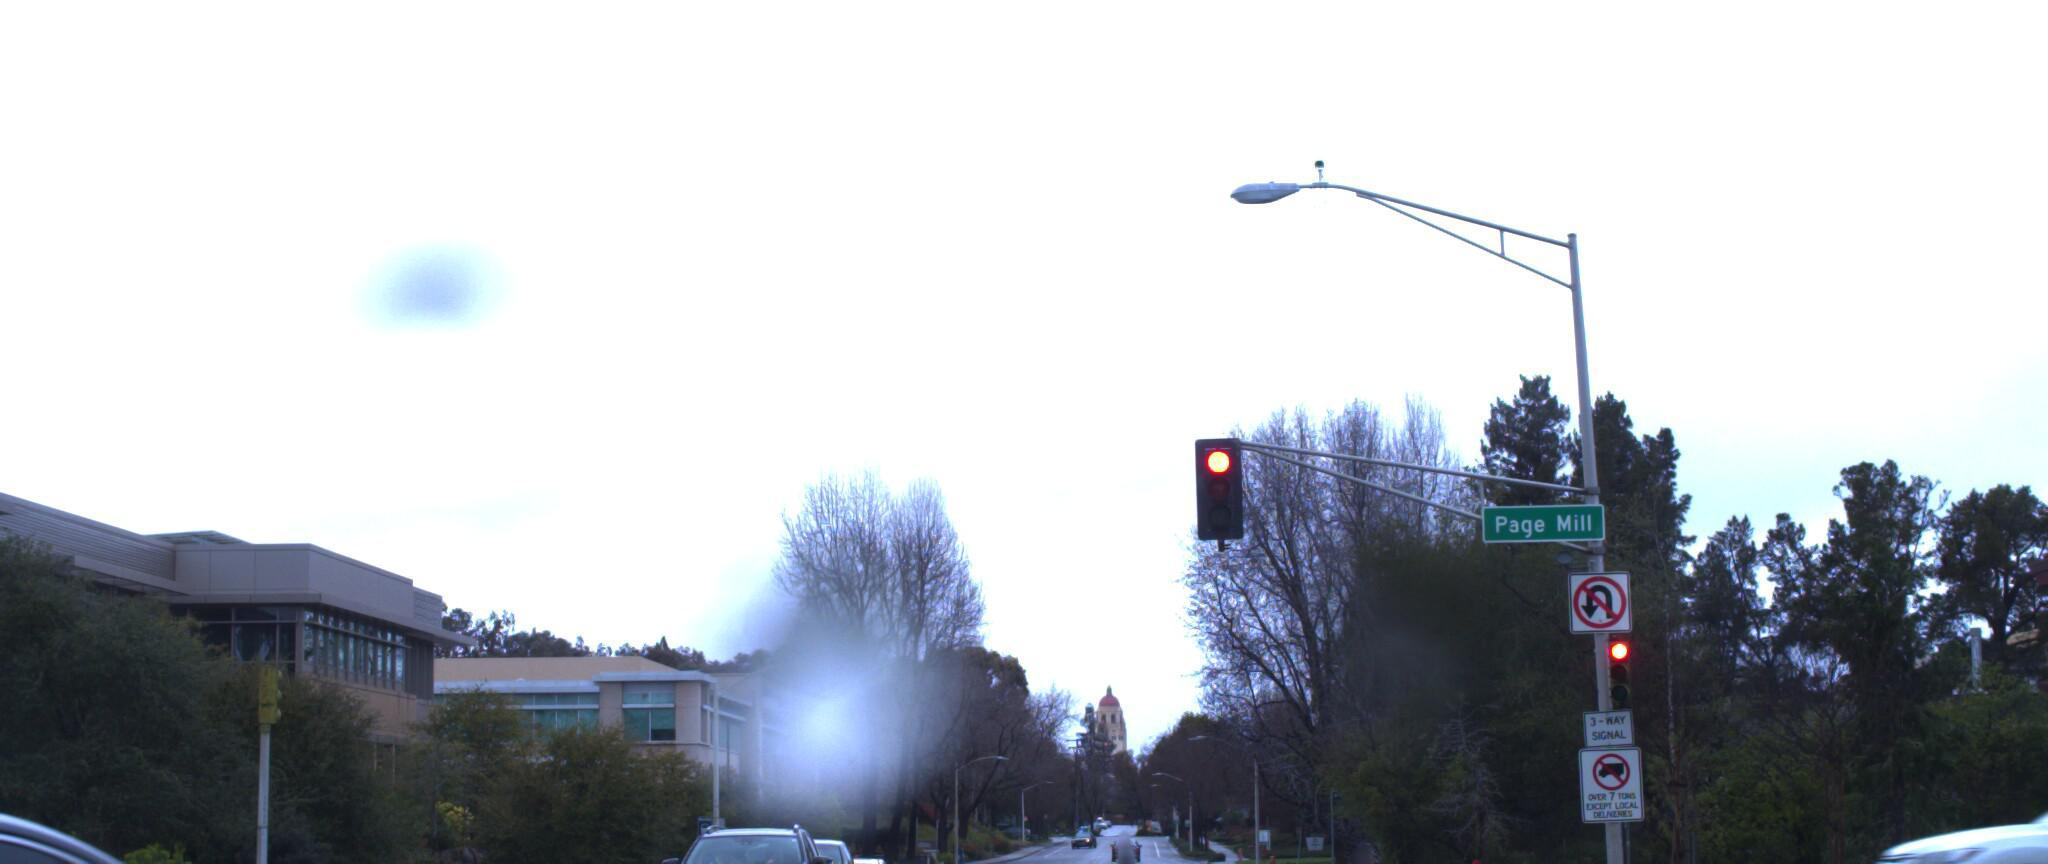car: (0, 718, 387, 864), (1822, 736, 2048, 864), (643, 820, 841, 864), (704, 831, 869, 864), (771, 850, 903, 864)
